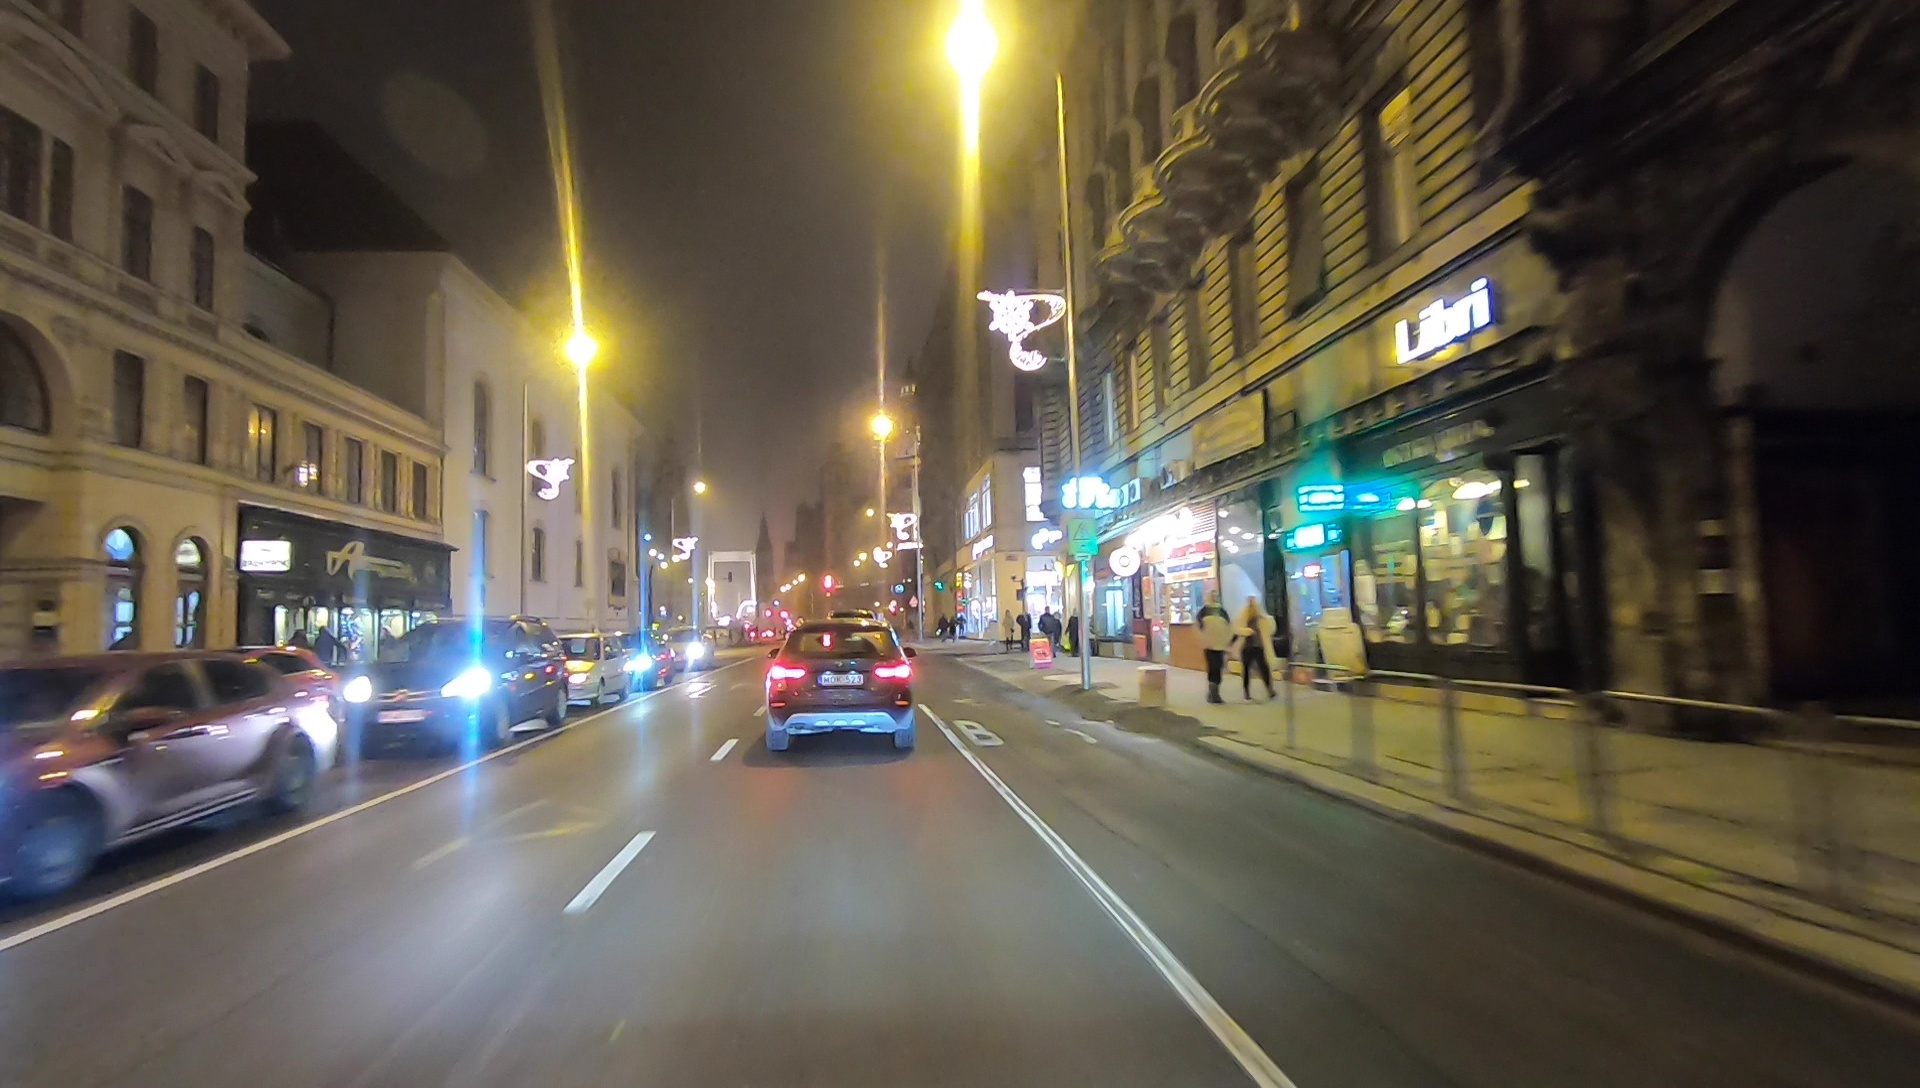person: (1235, 597, 1281, 703), (1197, 589, 1235, 706), (1038, 606, 1056, 655), (1017, 607, 1032, 648), (1067, 609, 1079, 659), (1001, 606, 1016, 647)
